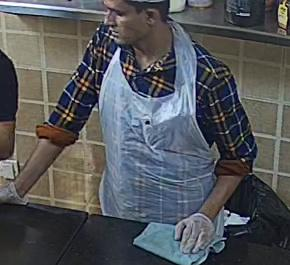apron: (94, 0, 229, 225)
